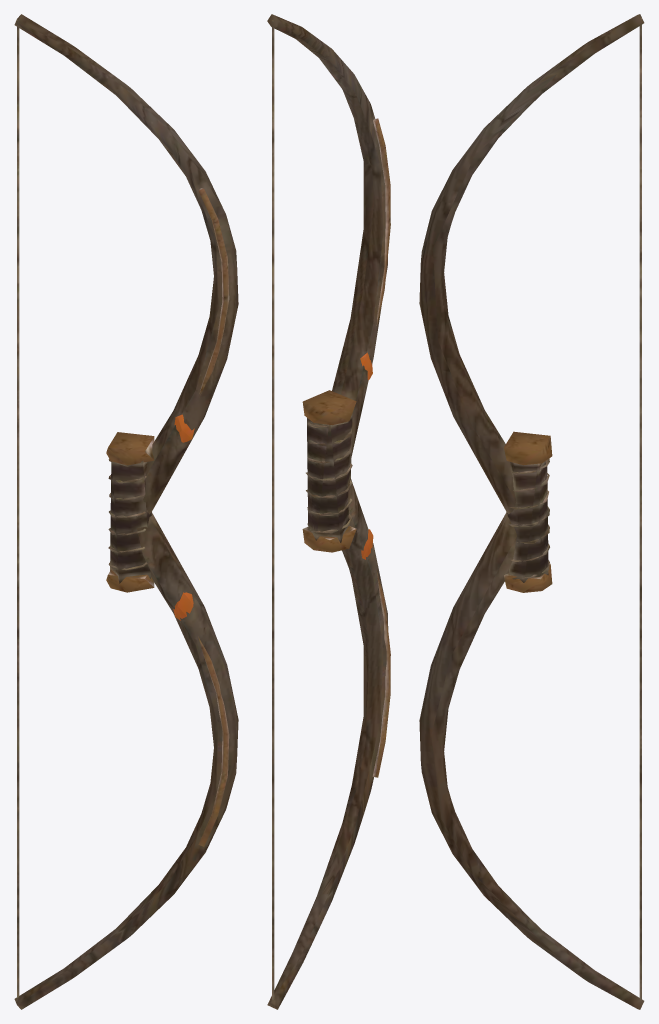
The model's file is eq_bow_3_lod1.glb.
3 renders of one model, left to right at view 1: azimuth 90°, elevation 25°; view 2: azimuth 150°, elevation 25°; view 3: azimuth 270°, elevation 25°, orthographic.
Parts seen in each view (by area): view 1: eq_bow_3_lod1; view 2: eq_bow_3_lod1; view 3: eq_bow_3_lod1.
Part boxes in pixels (box(x1,y1,x2,y2)): eq_bow_3_lod1: box(14, 14, 238, 1009); eq_bow_3_lod1: box(267, 14, 390, 1009); eq_bow_3_lod1: box(419, 14, 644, 1009).
Bounding box in the file's own units: 0.0662 × 1.45 × 0.2973.
1 material, 1 textured.
